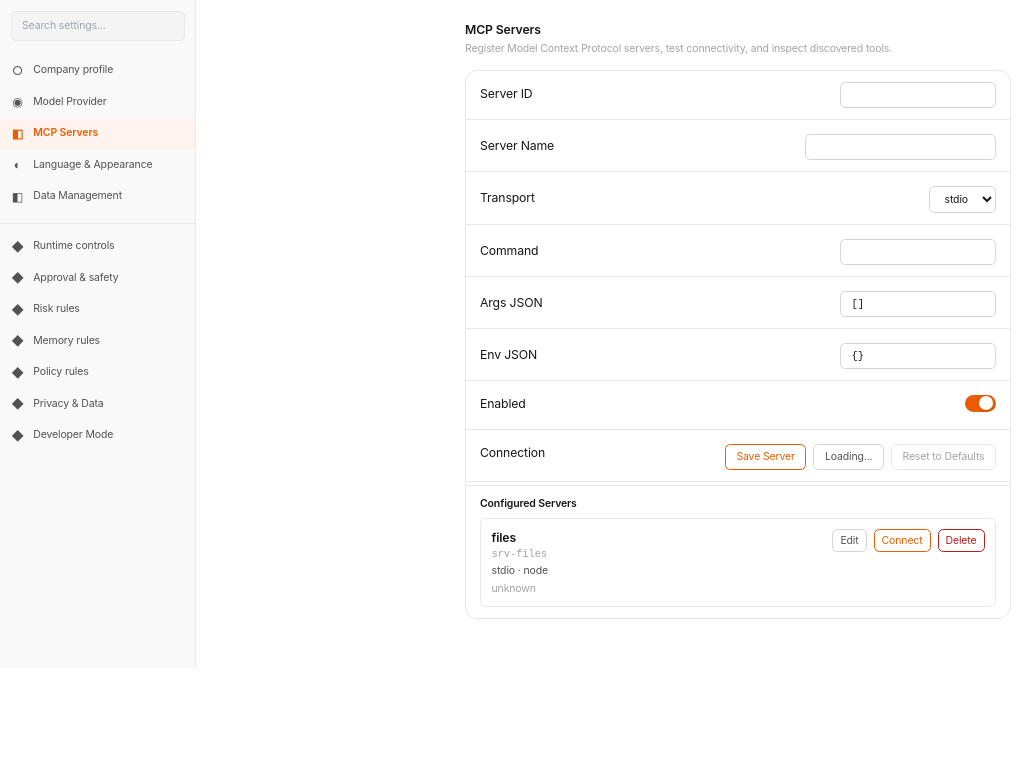
Test: MCP settings › loads configured MCP servers and shows tools after connect
expect the text "files" is shown: met, box [492,530,516,545]
Click the button "Connect".
click(902, 541)  # box [874,529,931,552]
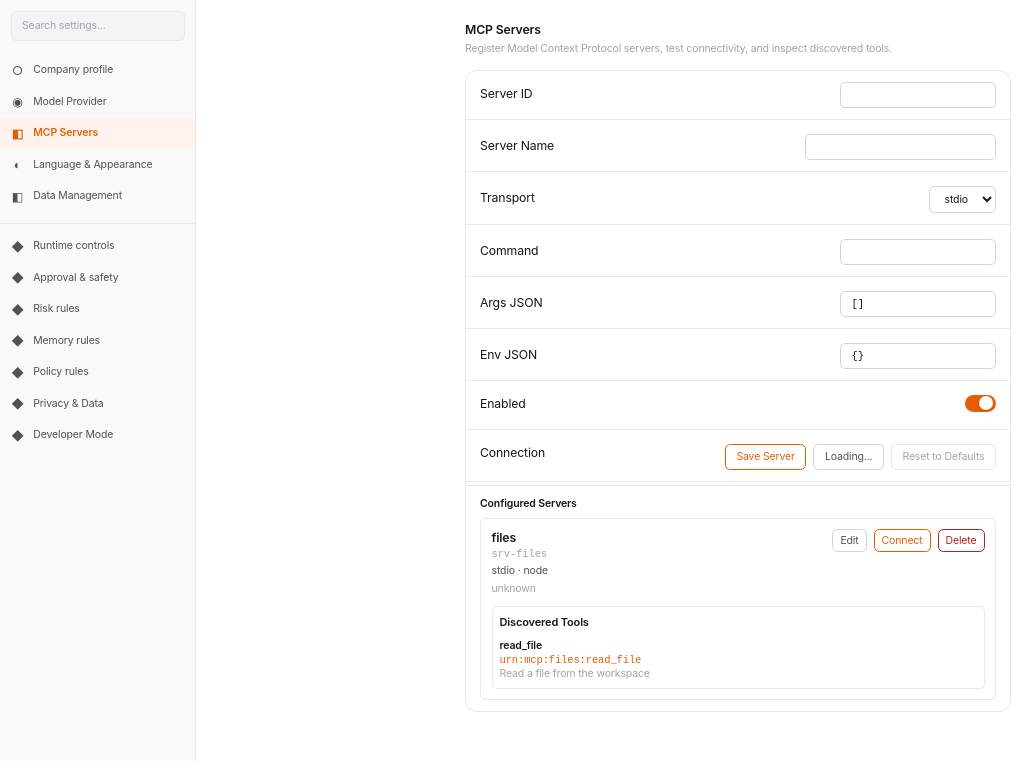
expect the text "read_file" is shown: met, box [500,639,542,652]
expect the text "urn:mcp:files:read_file" is shown: met, box [500,654,641,666]
